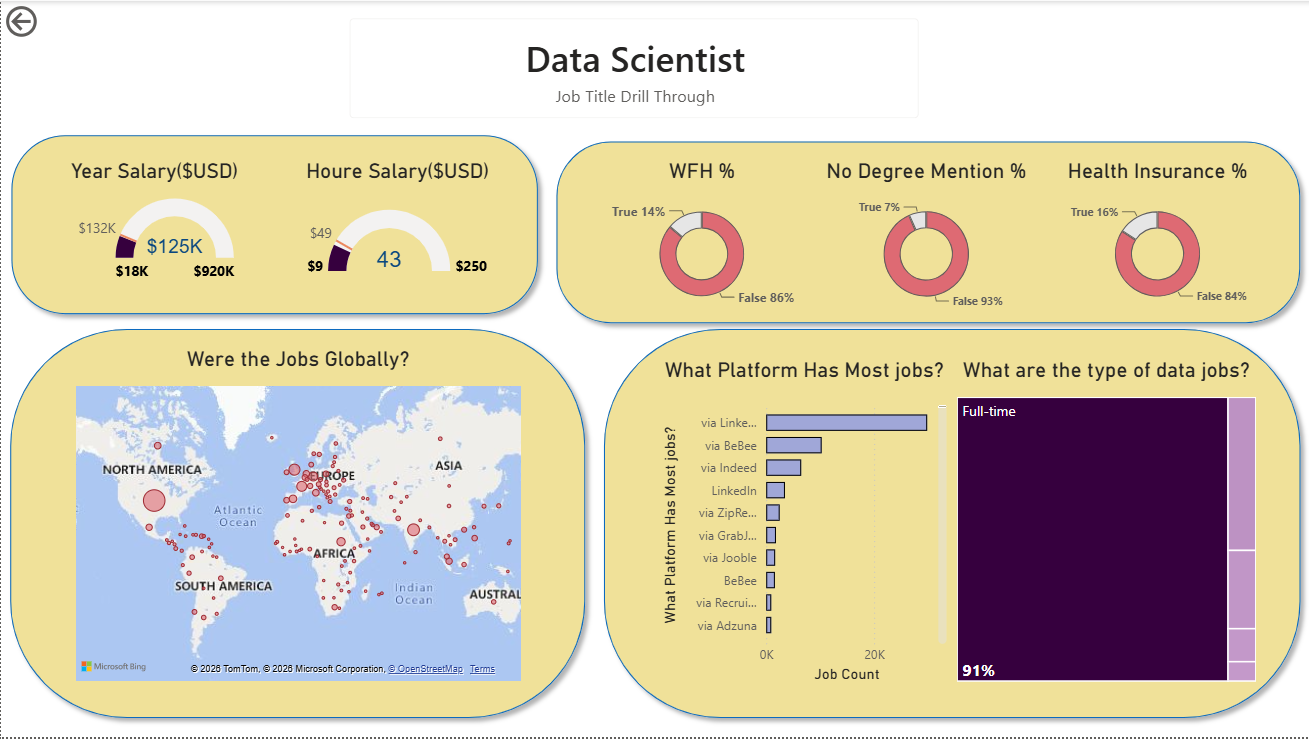

The dashboard page shown, as its layout file describes it:
{"tool":"powerbi","page":{"name":"Job Title Drill through","canvas":[1280,720],"ordinal":1},"visuals":[{"type":"group","id":"g1","title":"backround","box":[0,121.7,1280,588],"z":0},{"type":"cardVisual","fields":{"Data":["Min(job_postings_flat.job_title_short)1"]},"box":[324.1,0,591.9,132.1],"z":1000},{"type":"actionButton","box":[0,0,100,40],"z":2000},{"type":"gauge","title":"Year Salary($USD)","fields":{"Y":["Median(job_postings_flat.salary_year_avg)"],"MinValue":["Min(job_postings_flat.salary_year_avg)1"],"MaxValue":["Max(job_postings_flat.salary_year_avg)2"],"TargetValue":["Avg(job_postings_flat.salary_year_avg)3"]},"box":[50.1,154.1,199.3,129.6],"z":3000},{"type":"gauge","title":"Houre Salary($USD)","fields":{"Y":["Median(job_postings_flat.salary_hour_avg)"],"MinValue":["Min(job_postings_flat.salary_hour_avg)"],"MaxValue":["Max(job_postings_flat.salary_hour_avg)1"],"TargetValue":["Avg(job_postings_flat.salary_hour_avg)2"]},"box":[289.8,154.1,195.7,130.8],"z":4000},{"type":"donutChart","title":"WFH %","fields":{"Category":["job_postings_flat.job_work_from_home"],"Y":["CountNonNull(job_postings_flat.job_no_degree_mention)"]},"box":[580.5,153.9,209.8,152.5],"z":5000},{"type":"donutChart","title":"No Degree Mention %","fields":{"Category":["job_postings_flat.job_no_degree_mention"],"Y":["CountNonNull(job_postings_flat.job_no_degree_mention)"]},"box":[790.4,153.9,230.8,152.5],"z":6000},{"type":"donutChart","title":"Health Insurance %","fields":{"Category":["job_postings_flat.job_health_insurance"],"Y":["CountNonNull(job_postings_flat.job_no_degree_mention)"]},"box":[1021.2,153.9,221,152.5],"z":7000},{"type":"map","title":"Were the Jobs Globally?","fields":{"Category":["job_postings_flat.job_country"],"Size":["CountNonNull(job_postings_flat.job_title_short)"]},"box":[68.5,337.1,444.9,332.9],"z":8000},{"type":"treemap","title":"What are the type of data jobs?","fields":{"Group":["job_postings_flat.job_schedule_type"],"Values":["CountNonNull(job_postings_flat.job_schedule_type)"]},"box":[930.3,348.3,302.2,321.7],"z":9000},{"type":"barChart","title":"What Platform Has Most jobs?","fields":{"Category":["job_postings_flat.job_via"],"Y":["CountNonNull(job_postings_flat.job_via)"]},"box":[642.1,348.3,288.2,323.1],"z":10000},{"type":"shape","box":[534.4,127.4,745.6,195.8],"z":12125,"group":"g1"},{"type":"shape","box":[0,311,580.5,398.7],"z":12250,"group":"g1"},{"type":"shape","box":[1.4,121.7,533,193],"z":12500,"group":"g1"},{"type":"shape","box":[580.5,311,699.5,398.7],"z":13000,"group":"g1"}]}

Visuals, with their boxes in screenshot pixels (x1, y1, x2, y2), scaled from the page's 1280x720 canvas onto the 1309x742 screenshot:
"backround" group: x1=0, y1=125, x2=1308, y2=731
cardVisual - Min(job_postings_flat.job_title_short)1: x1=331, y1=0, x2=937, y2=136
actionButton: x1=0, y1=0, x2=102, y2=41
"Year Salary($USD)" gauge: x1=51, y1=159, x2=255, y2=292
"Houre Salary($USD)" gauge: x1=296, y1=159, x2=496, y2=294
"WFH %" donutChart: x1=594, y1=159, x2=808, y2=316
"No Degree Mention %" donutChart: x1=808, y1=159, x2=1044, y2=316
"Health Insurance %" donutChart: x1=1044, y1=159, x2=1270, y2=316
"Were the Jobs Globally?" map: x1=70, y1=347, x2=525, y2=690
"What are the type of data jobs?" treemap: x1=951, y1=359, x2=1260, y2=690
"What Platform Has Most jobs?" barChart: x1=657, y1=359, x2=951, y2=692
shape: x1=547, y1=131, x2=1308, y2=333
shape: x1=0, y1=321, x2=594, y2=731
shape: x1=1, y1=125, x2=547, y2=324
shape: x1=594, y1=321, x2=1308, y2=731
